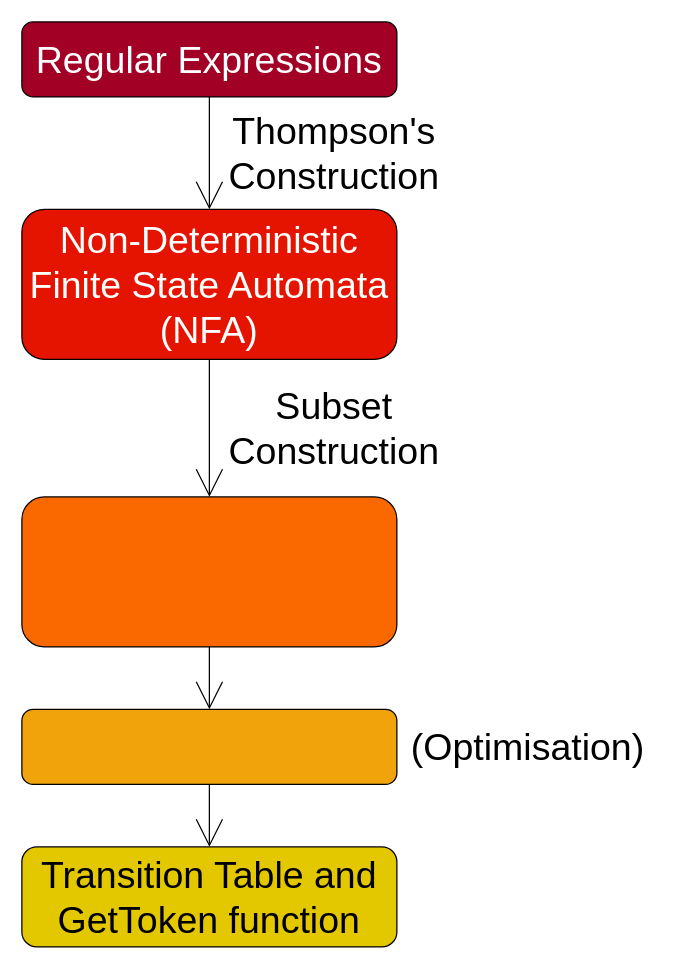
Image size: 675x969. Some labels were removed from this diagram. Each missing label, with the centre of its shape:
"Deterministic Finite State Automata (DFA)" belongs at (209,571).
"Minimum State DFA" belongs at (209,746).
